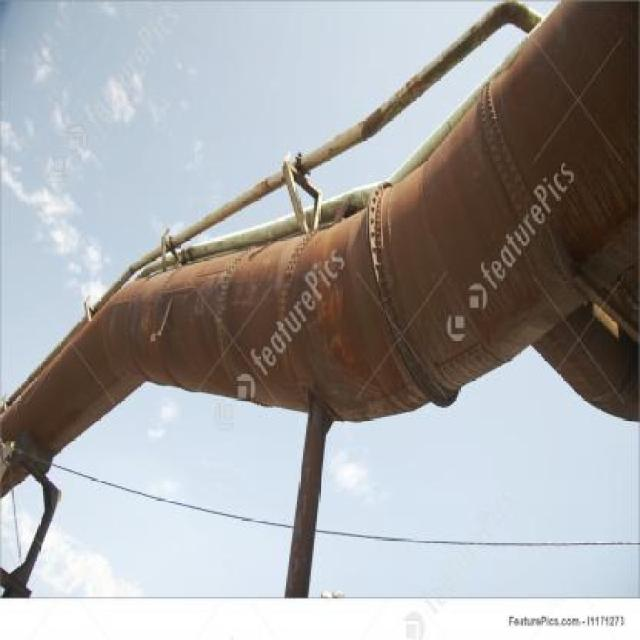corrosion: (0, 4, 640, 514)
